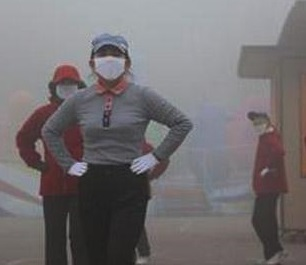person: (40, 32, 194, 265), (15, 62, 88, 265), (243, 109, 291, 265)
